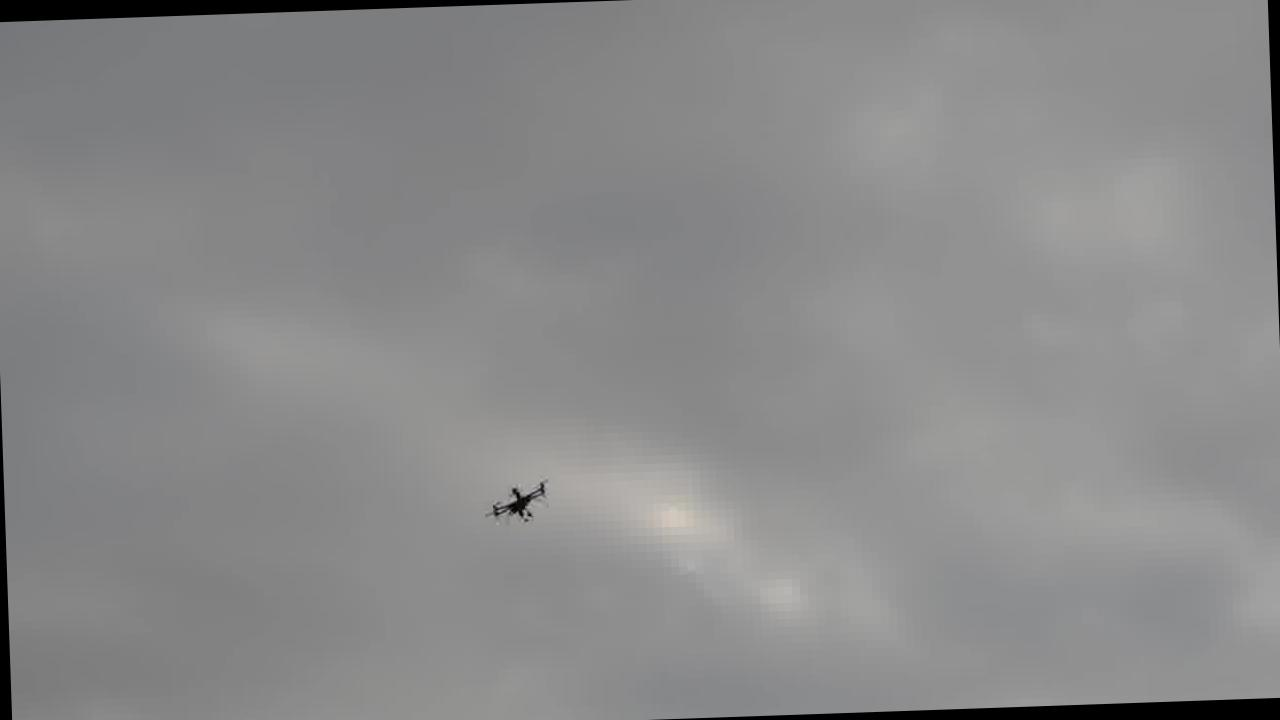drone: (483, 474, 554, 530)
